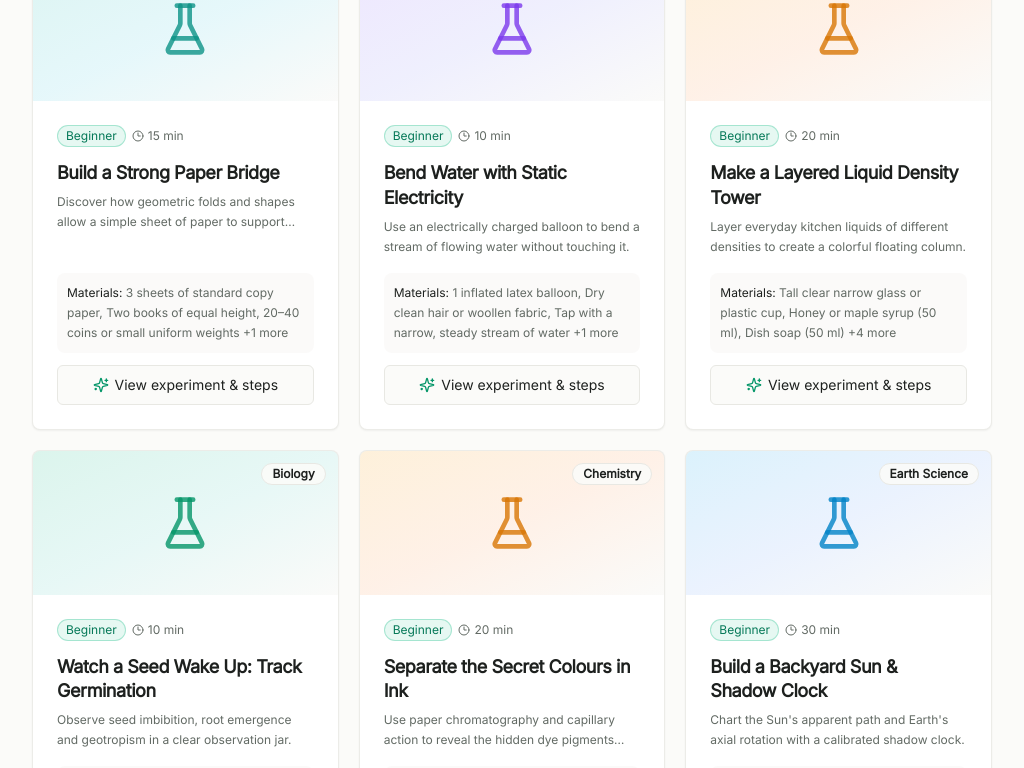
Test: ScienceLab page and experiments section › opens an experiment modal, interacts with materials and steps checklist, and controls the timer
This screenshot has width=1024, height=768.
(page scrolled)
Click the button "View experiment & steps" below "Build a Strong Paper Bridge".
click(185, 384)  # box left=57, top=364, right=314, bottom=404
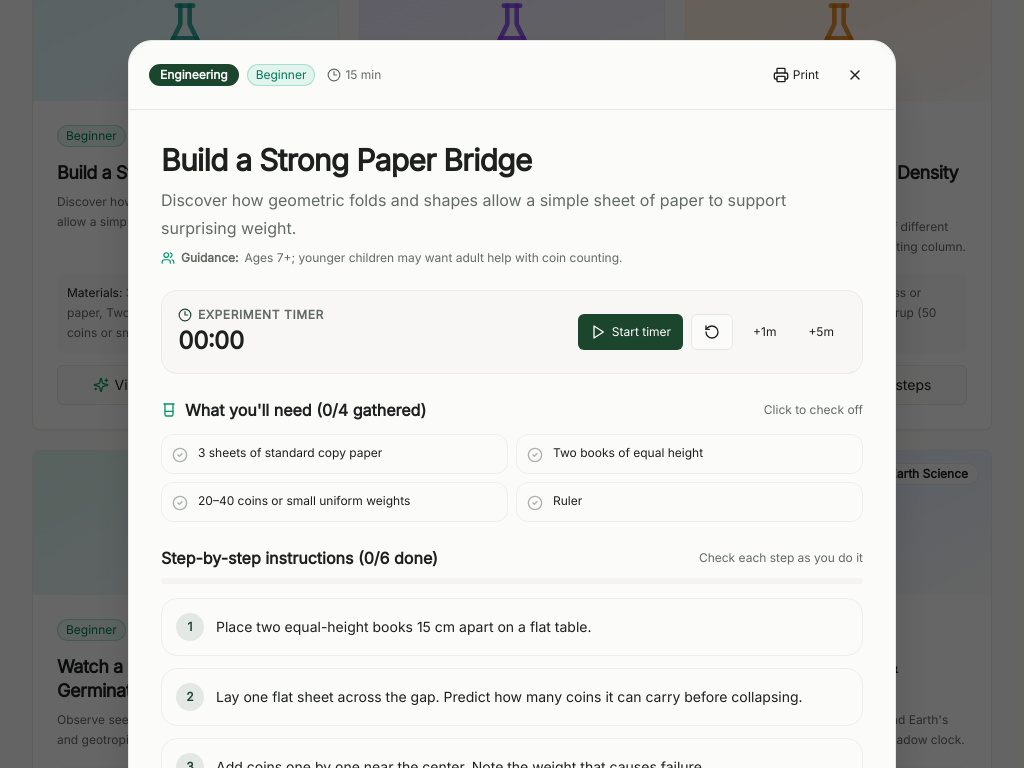
Result: the dialog is shown
Result: the heading "Build a Strong Paper Bridge" is shown at left=161, top=142, right=532, bottom=178
# Check off material
Click the text "3 sheets of standard copy paper".
click(290, 453)  # box left=198, top=445, right=382, bottom=461
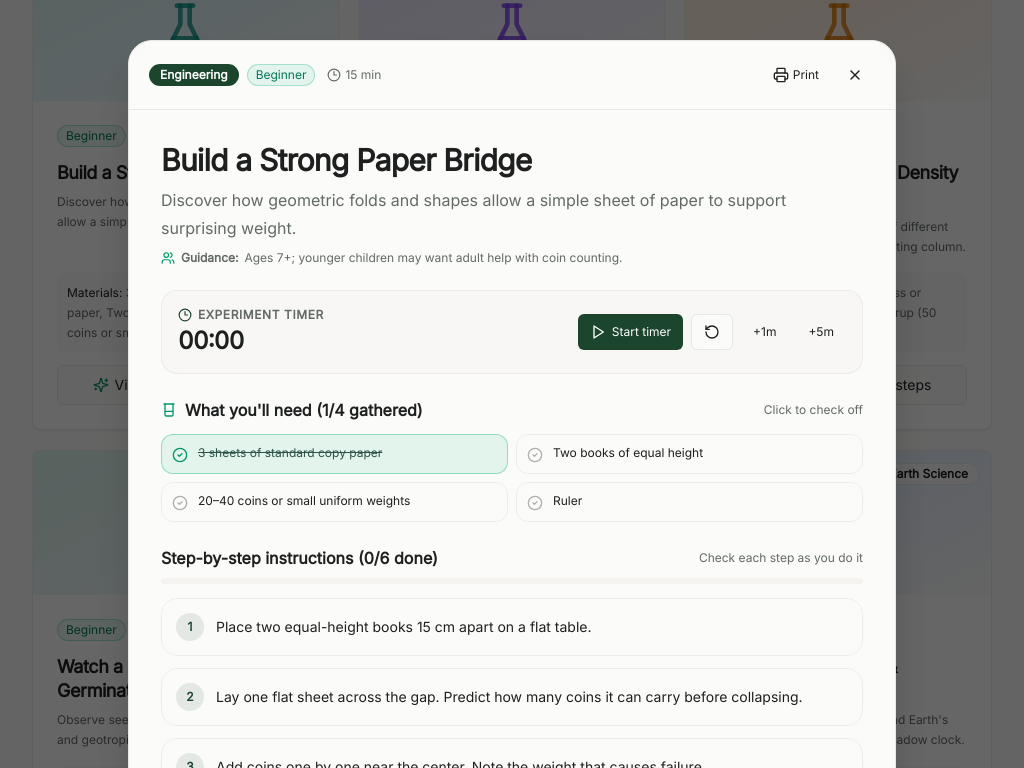
Result: the text "3 sheets of standard copy paper" has class "line-through" at left=198, top=445, right=382, bottom=461
# Check off step
Click the text "Place two equal-height books 15 cm apart on a flat table.".
click(404, 627)  # box left=216, top=613, right=592, bottom=641
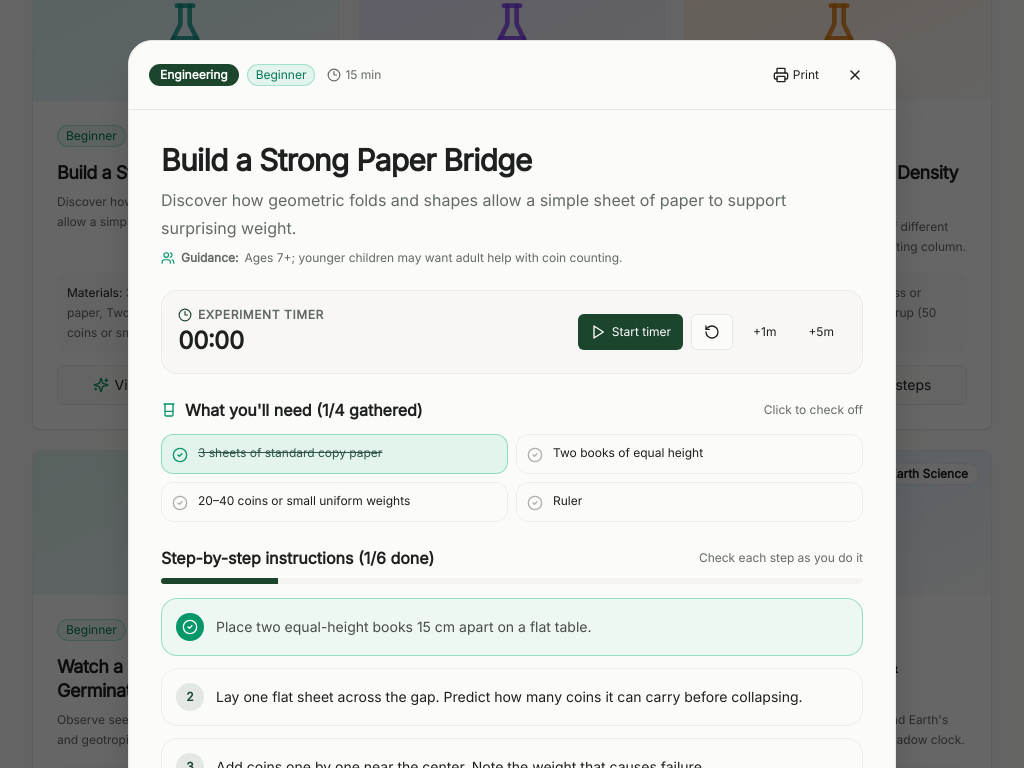
# Timer controls
Click the button "Start timer".
click(630, 332)  # box left=578, top=314, right=683, bottom=350
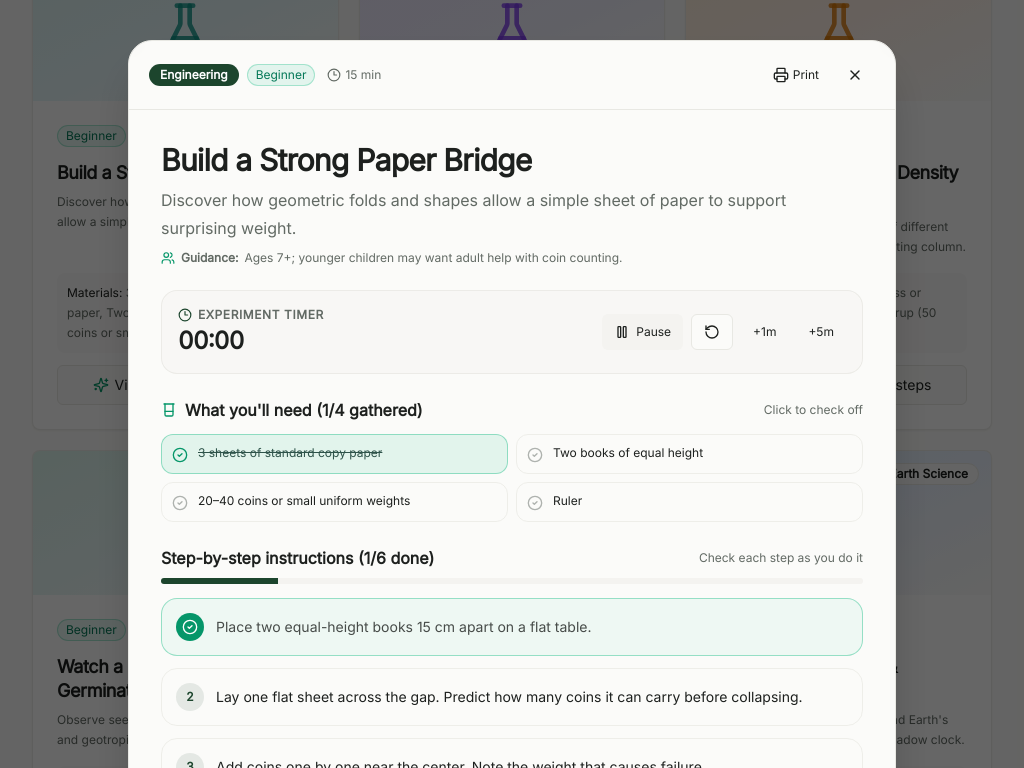
Result: the button "Pause" is shown at left=602, top=314, right=683, bottom=350
#  Add +1m
Click the button "+1m".
click(765, 332)  # box left=741, top=314, right=788, bottom=350
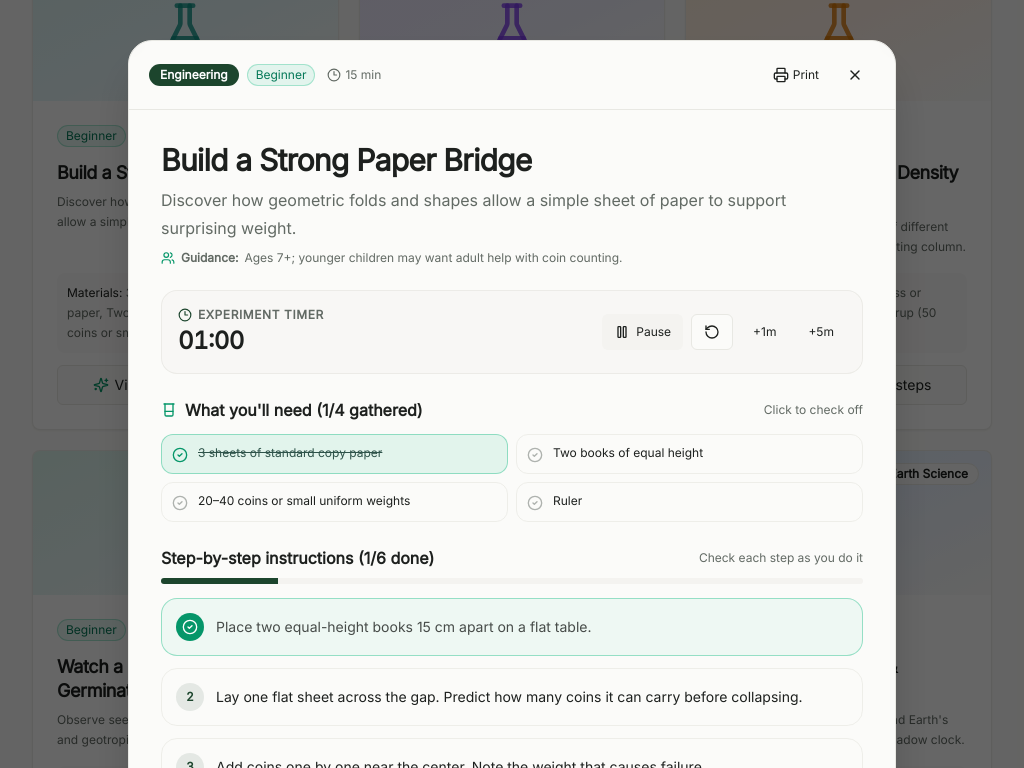
Result: the text "01:00" is shown at left=178, top=326, right=244, bottom=355
# Close modal
Click the button named "Close experiment".
click(855, 75)  # box left=835, top=55, right=875, bottom=95
(page scrolled)
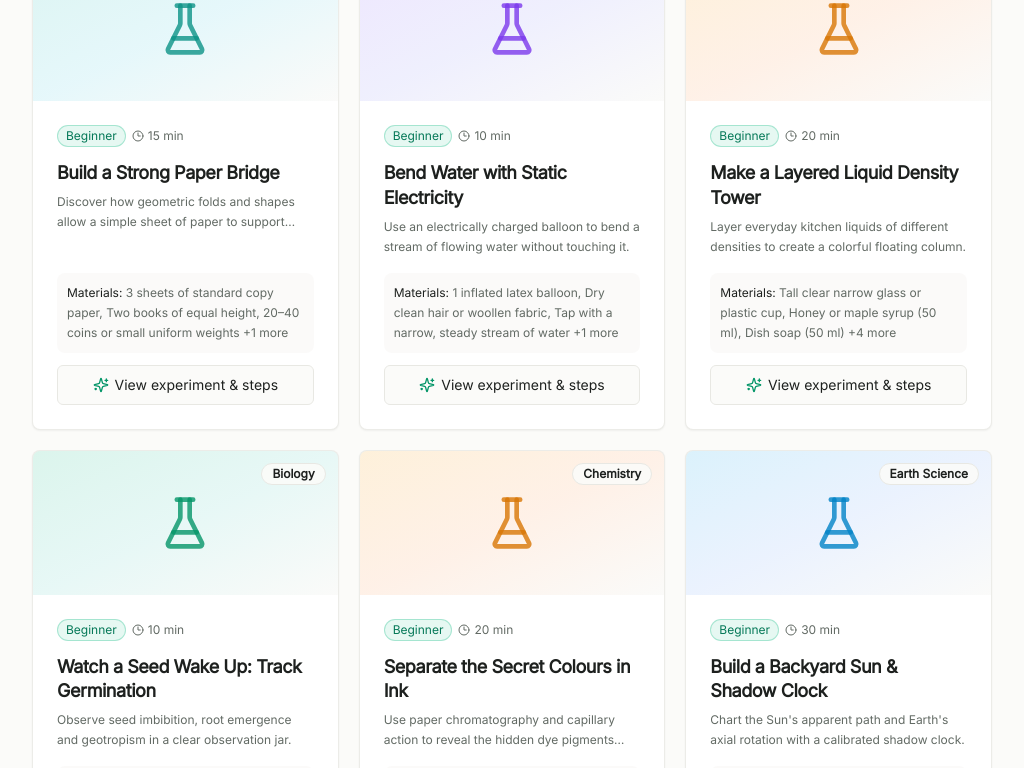
Result: the dialog is gone
